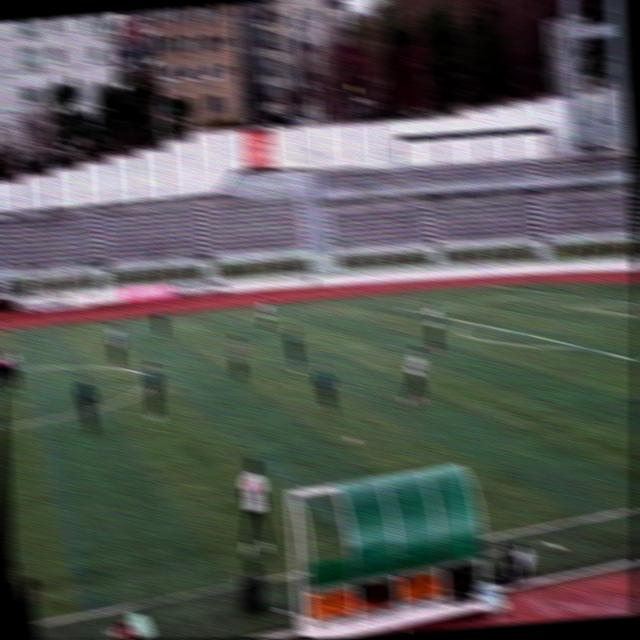bigarea_top_inner: (397, 300, 413, 317)
bigarea_top_outter: (541, 285, 559, 300)
bottom_arc_area_intersection: (567, 335, 589, 355)
corner: (477, 276, 493, 292)
halfcircle_bottom: (0, 410, 9, 440)
smallarea_top_inner: (568, 300, 584, 315)
smallarea_top_outter: (618, 295, 632, 306)
top_arc_area_intersection: (461, 311, 479, 332)
